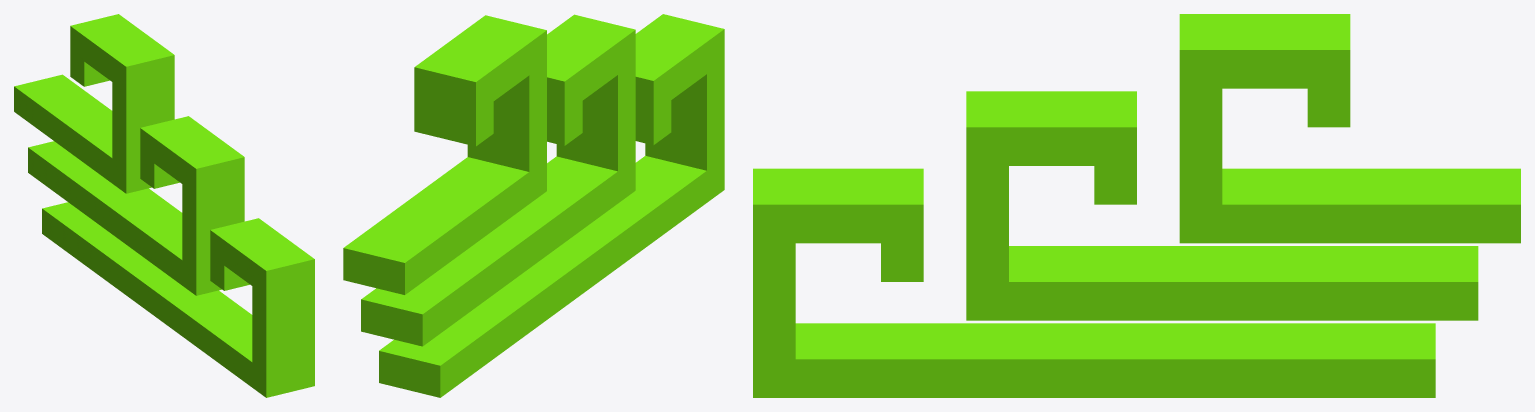
File: HardPushBlower.fbx
The picture shows the model from 3 angles, left to right: view 1: azimuth 30°, elevation 25°; view 2: azimuth 150°, elevation 25°; view 3: azimuth 270°, elevation 25°; orthographic projection. The views are drawn at different scales.
Parts seen in each view (by area): view 1: Cube.003, Cube.005, Cube.009; view 2: Cube.003, Cube.009, Cube.005; view 3: Cube.003, Cube.005, Cube.009.
Boxes of the visible parts, x1=… form: Cube.003: x1=42, y1=202, x2=314, y2=397; Cube.005: x1=28, y1=116, x2=244, y2=295; Cube.009: x1=14, y1=14, x2=174, y2=193; Cube.003: x1=379, y1=14, x2=724, y2=397; Cube.009: x1=343, y1=15, x2=546, y2=294; Cube.005: x1=361, y1=14, x2=635, y2=346; Cube.003: x1=753, y1=168, x2=1435, y2=397; Cube.005: x1=966, y1=91, x2=1478, y2=320; Cube.009: x1=1179, y1=14, x2=1520, y2=243.
Size of the model in its own units: 20 by 90 by 180.
